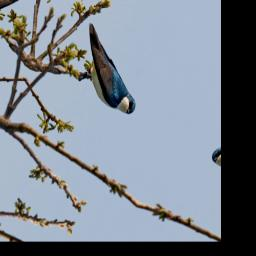Swallow: (59, 20, 163, 124)
